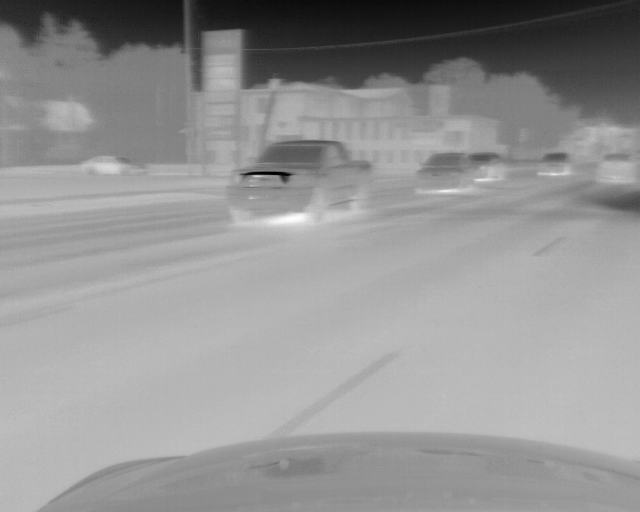car: (227, 136, 372, 226), (416, 151, 473, 193), (78, 154, 146, 177), (595, 151, 640, 185), (469, 151, 508, 181), (536, 151, 574, 178)
